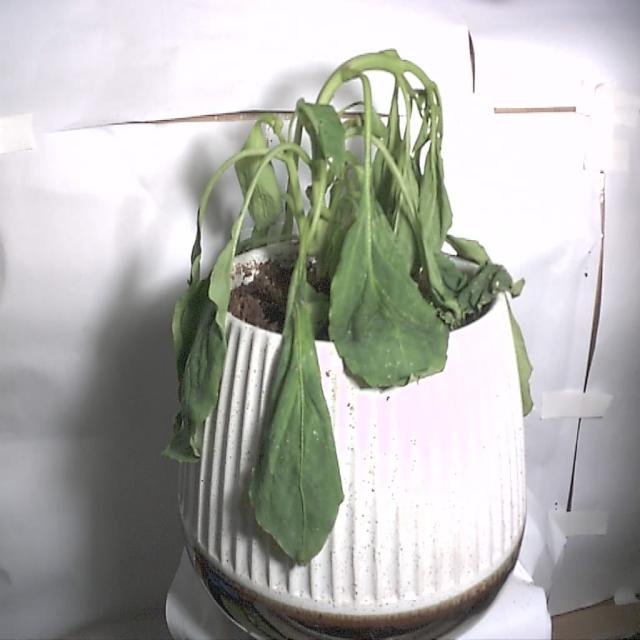Leaf: (249, 296, 345, 568), (332, 194, 449, 385), (160, 230, 238, 467)
